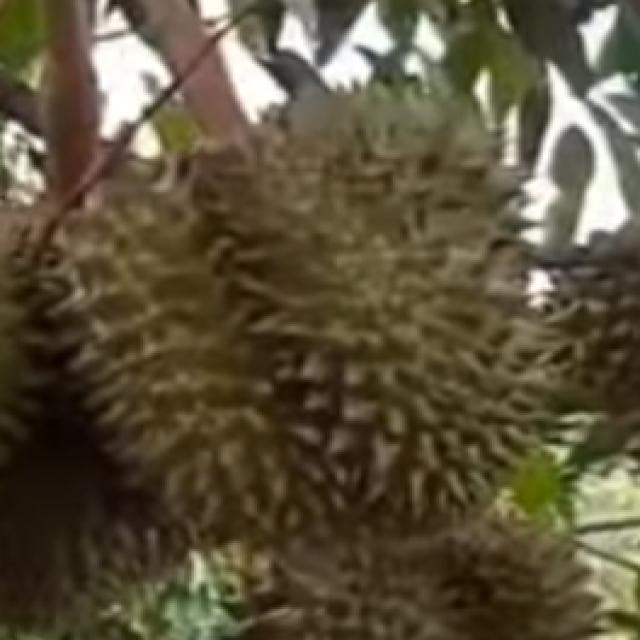mature: (45, 73, 536, 550)
